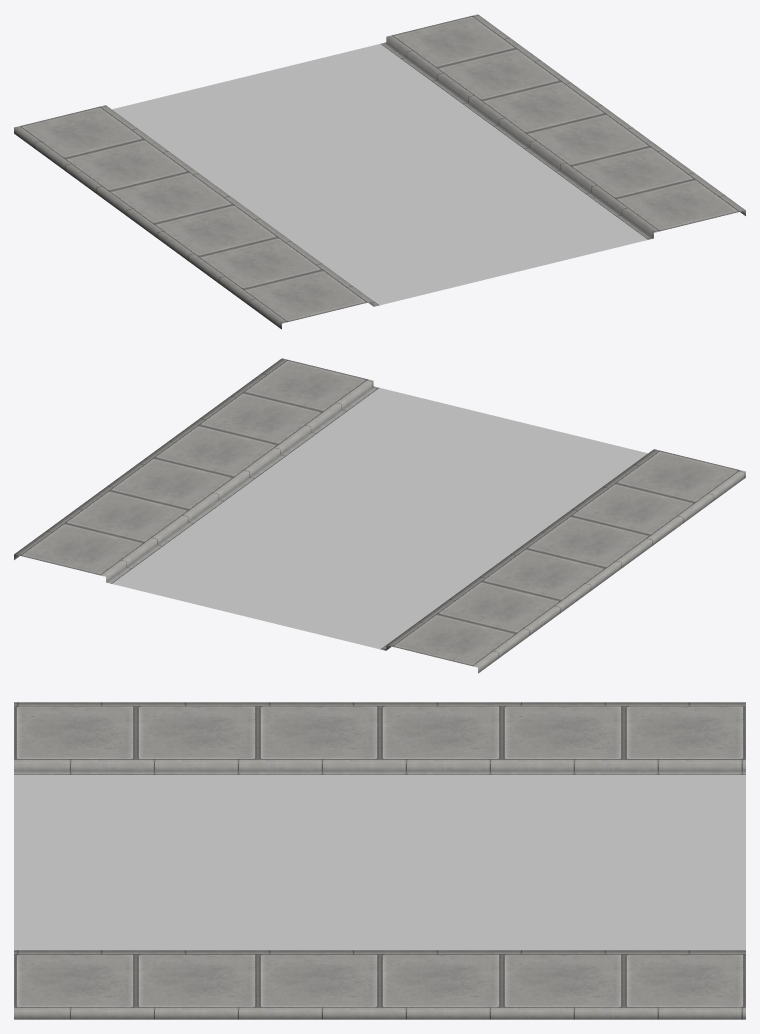
File: street.straight.fbx
The picture shows the model from 3 angles, top to bottom: view 1: azimuth 30°, elevation 25°; view 2: azimuth 150°, elevation 25°; view 3: azimuth 270°, elevation 25°; orthographic projection. The views are drawn at different scales.
Visible parts, largest first — view 1: MESH street.straight; view 2: MESH street.straight; view 3: MESH street.straight.
Part boxes in pixels (x1=…): MESH street.straight: x1=14, y1=14, x2=745, y2=329; MESH street.straight: x1=14, y1=358, x2=745, y2=673; MESH street.straight: x1=14, y1=702, x2=745, y2=1019.
Size of what is drawn, in the model's own units: 1200 by 15 by 1200.
